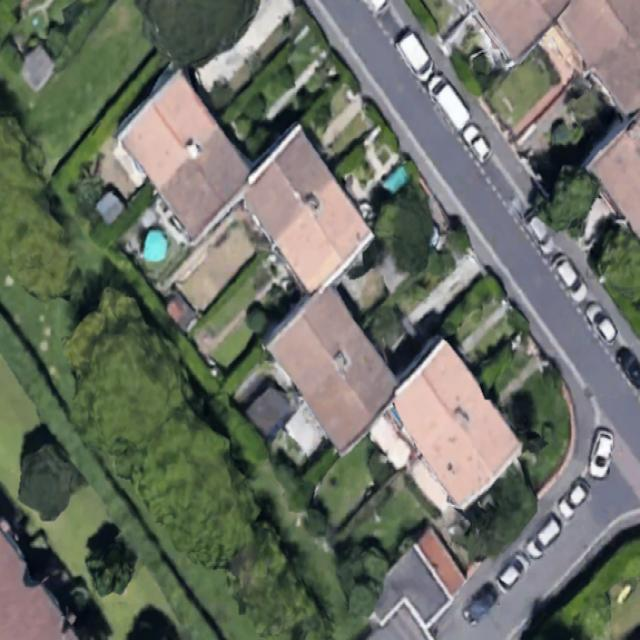maison: (104, 68, 266, 244), (372, 338, 533, 510), (224, 124, 381, 299), (257, 283, 412, 456)
